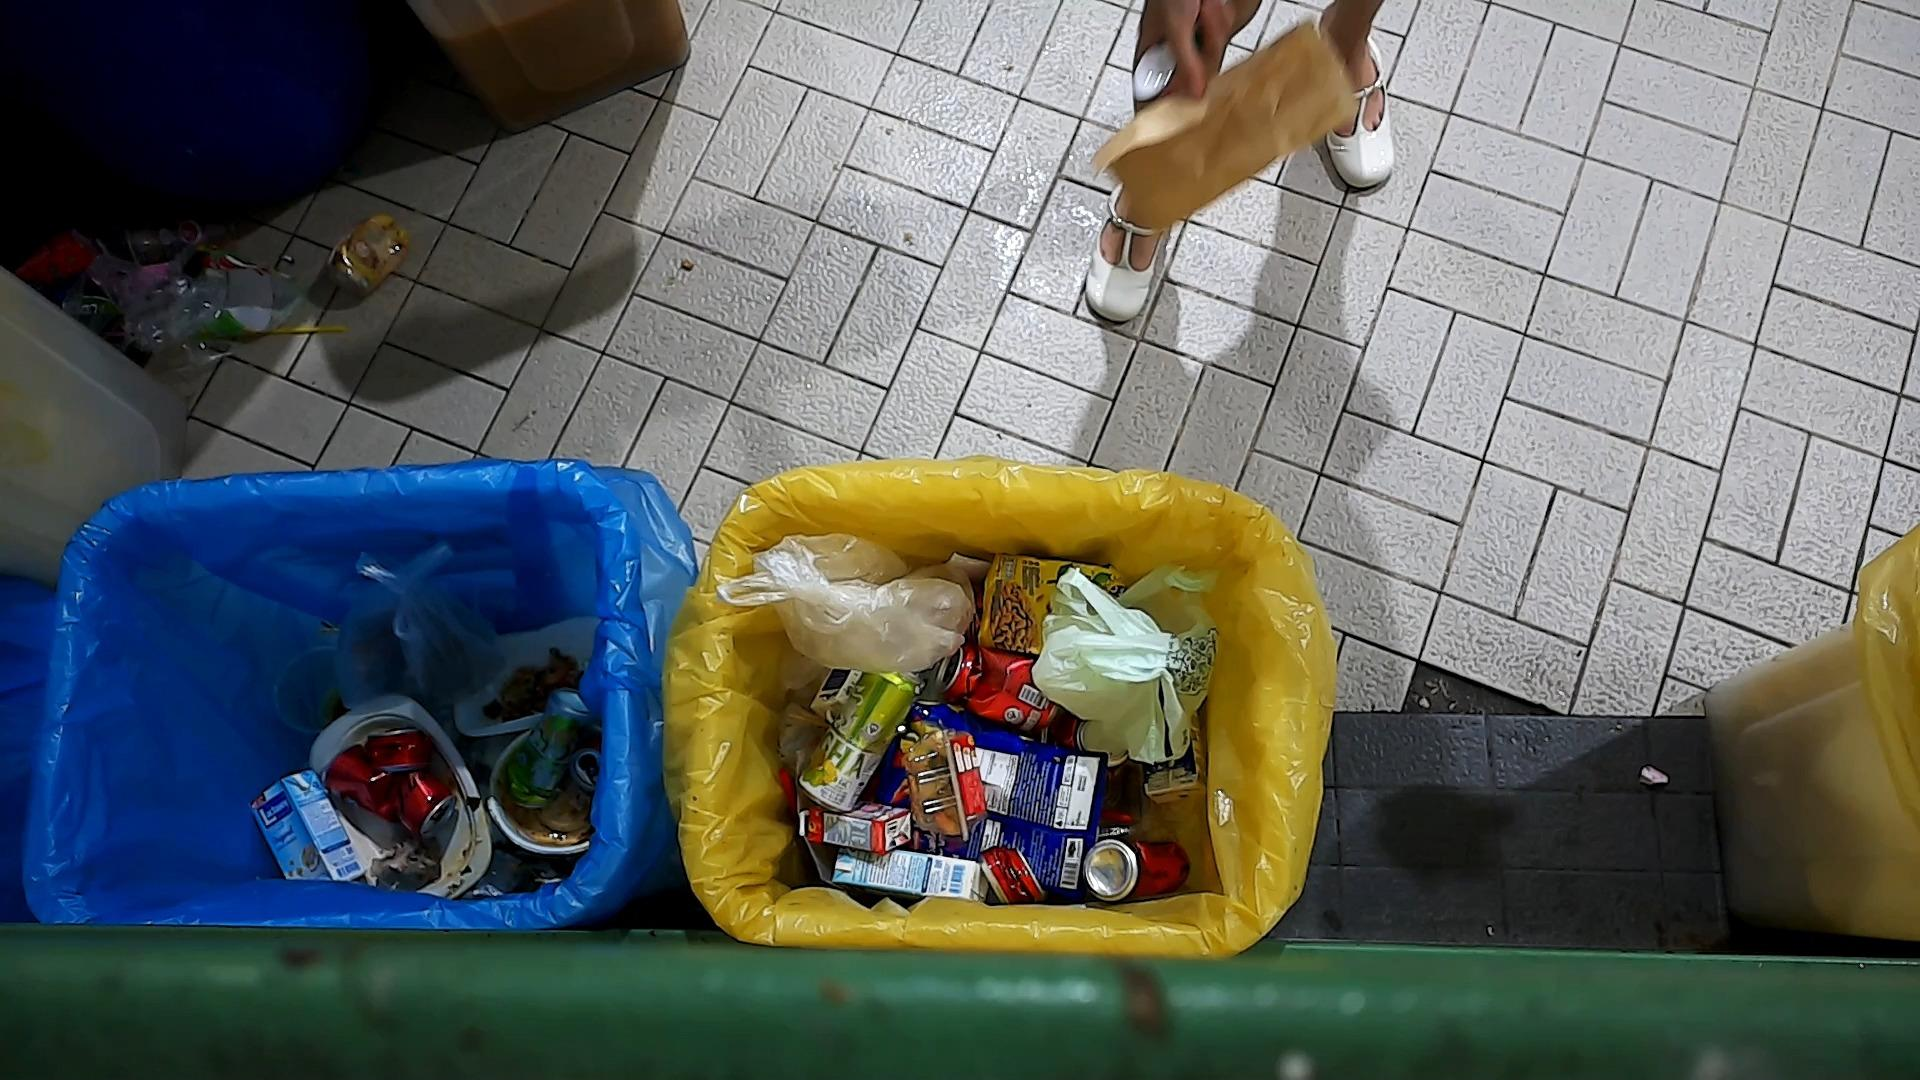can: (794, 667, 922, 811), (336, 733, 462, 847), (944, 649, 1067, 742), (509, 684, 593, 812), (1081, 831, 1195, 899), (972, 844, 1048, 905), (363, 719, 430, 781)
dirty food container: (305, 713, 487, 897), (447, 615, 597, 736), (481, 721, 604, 856), (895, 727, 990, 843)
filled plastic bag: (720, 525, 973, 669), (331, 538, 505, 709)
milk carton: (244, 769, 365, 882), (828, 845, 988, 905), (795, 798, 914, 858)
paper bag: (1091, 18, 1366, 231)
plastic bag: (1031, 570, 1218, 761)
snack packaging: (874, 712, 1100, 903), (980, 554, 1127, 658)
